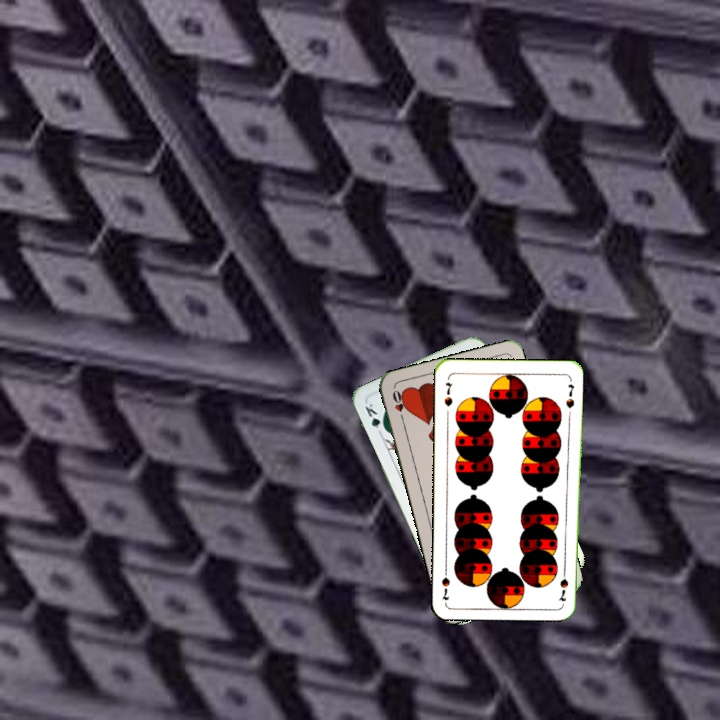GK: (361, 399, 389, 438)
HO: (388, 386, 408, 425)
S7: (556, 564, 571, 604), (440, 378, 455, 409)
